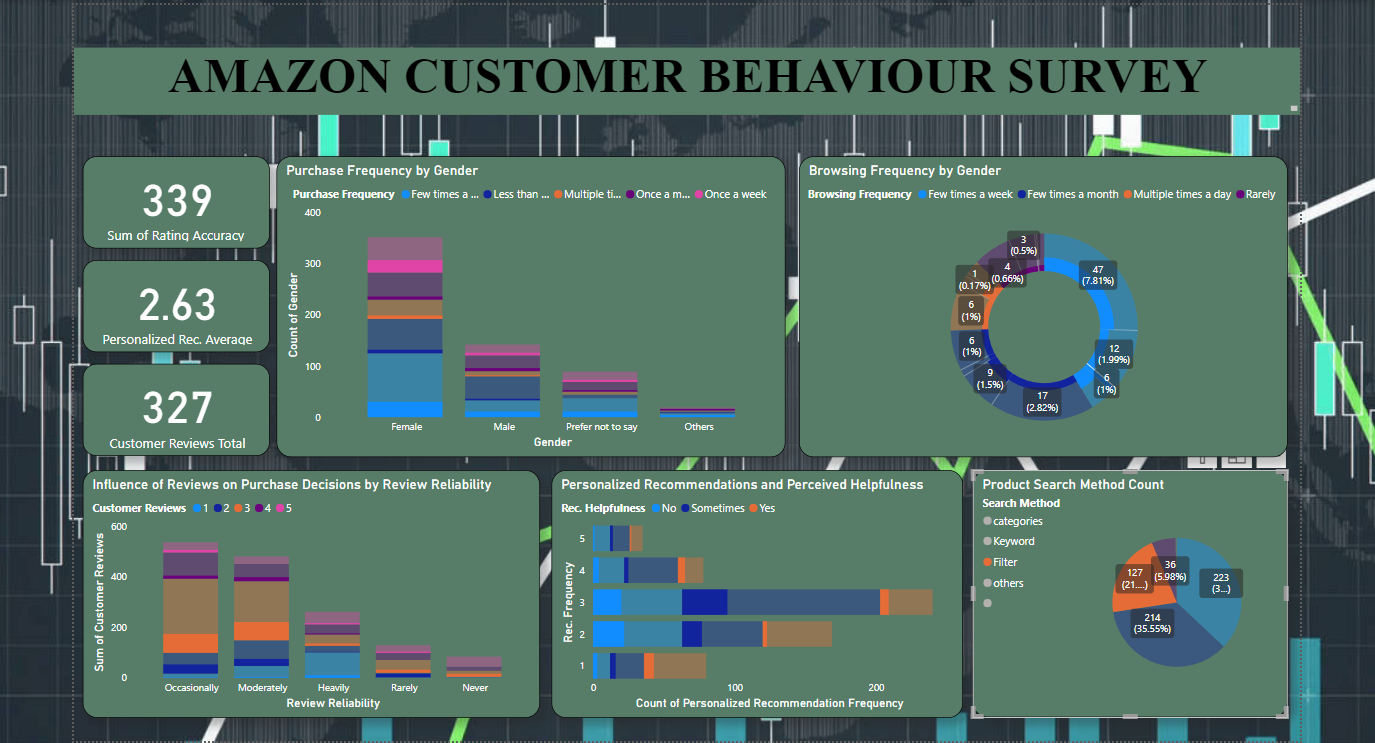

The dashboard page shown, as its layout file describes it:
{"tool":"powerbi","page":{"name":"Page 1","canvas":[1500,900],"ordinal":0},"visuals":[{"type":"barChart","title":"Personalized Recommendations and Perceived Helpfulness","fields":{"Category":["Amazon Customer Behavior Survey.Personalized_Recommendation_Frequency "],"Series":["Amazon Customer Behavior Survey.Recommendation_Helpfulness"],"Y":["CountNonNull(Amazon Customer Behavior Survey.Personalized_Recommendation_Frequency )"]},"box":[583.7,568.3,503.2,303.5],"z":0},{"type":"textbox","title":"AMAZON CUSTOMER BEHAVIOUR SURVEY","box":[0,52,1501,82.5],"z":2000},{"type":"card","fields":{"Values":["Sum(Amazon Customer Behavior Survey.Rating_Accuracy )"]},"box":[10.8,184.3,229.2,113],"z":3000},{"type":"columnChart","title":"Influence of Reviews on Purchase Decisions by Review Reliability","fields":{"Category":["Amazon Customer Behavior Survey.Review_Reliability"],"Y":["Sum(Amazon Customer Behavior Survey.Customer_Reviews_Importance)"],"Series":["Amazon Customer Behavior Survey.Customer_Reviews_Importance"]},"box":[10.8,568.3,559,303.5],"z":4000},{"type":"card","fields":{"Values":["Avg(Amazon Customer Behavior Survey.Personalized_Recommendation_Frequency )"]},"box":[10.8,311.2,229.2,113],"z":5000},{"type":"card","fields":{"Values":["Sum(Amazon Customer Behavior Survey.Customer_Reviews_Importance)"]},"box":[10.8,438.2,229.2,113],"z":6000},{"type":"pieChart","title":"Product Search Method Count","fields":{"Category":["Amazon Customer Behavior Survey.Product_Search_Method"],"Y":["CountNonNull(Amazon Customer Behavior Survey.Purchase_Frequency)"]},"box":[1099,568.6,385.2,302.7],"z":7000},{"type":"columnChart","title":"Purchase Frequency by Gender","fields":{"Category":["Amazon Customer Behavior Survey.Gender"],"Y":["CountNonNull(Amazon Customer Behavior Survey.Gender)"],"Series":["Amazon Customer Behavior Survey.Purchase_Frequency"]},"box":[247.6,185,622.1,368.4],"z":8000},{"type":"donutChart","title":"Browsing Frequency by Gender","fields":{"Category":["Amazon Customer Behavior Survey.Browsing_Frequency"],"Y":["CountNonNull(Amazon Customer Behavior Survey.Gender)"],"Series":["Amazon Customer Behavior Survey.Gender"]},"box":[886.6,185,597.7,368.4],"z":10000}]}

Visuals, with their boxes in screenshot pixels (x1, y1, x2, y2):
"Personalized Recommendations and Perceived Helpfulness" barChart: [x1=549, y1=465, x2=958, y2=712]
"AMAZON CUSTOMER BEHAVIOUR SURVEY" textbox: [x1=75, y1=46, x2=1294, y2=113]
card - Sum(Amazon Customer Behavior Survey.Rating_Accuracy ): [x1=84, y1=153, x2=270, y2=245]
"Influence of Reviews on Purchase Decisions by Review Reliability" columnChart: [x1=84, y1=465, x2=538, y2=712]
card - Avg(Amazon Customer Behavior Survey.Personalized_Recommendation_Frequency ): [x1=84, y1=256, x2=270, y2=348]
card - Sum(Amazon Customer Behavior Survey.Customer_Reviews_Importance): [x1=84, y1=359, x2=270, y2=451]
"Product Search Method Count" pieChart: [x1=968, y1=465, x2=1281, y2=711]
"Purchase Frequency by Gender" columnChart: [x1=276, y1=154, x2=782, y2=453]
"Browsing Frequency by Gender" donutChart: [x1=795, y1=154, x2=1281, y2=453]
